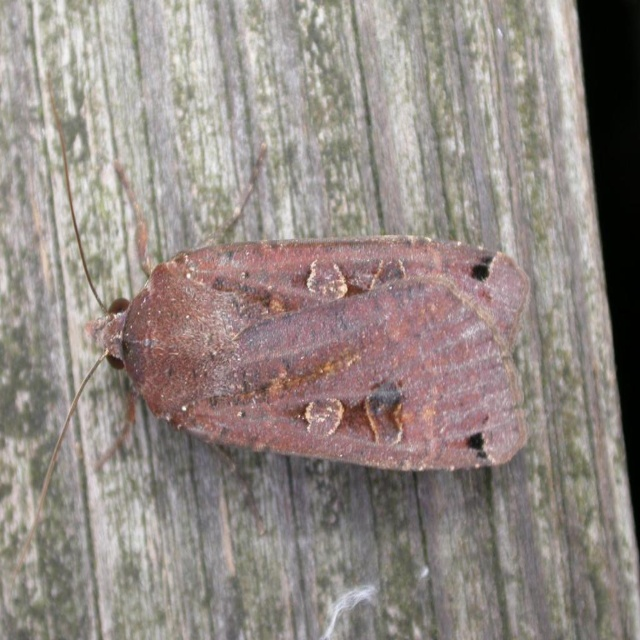Moths and butterflies: (5, 67, 530, 593)
